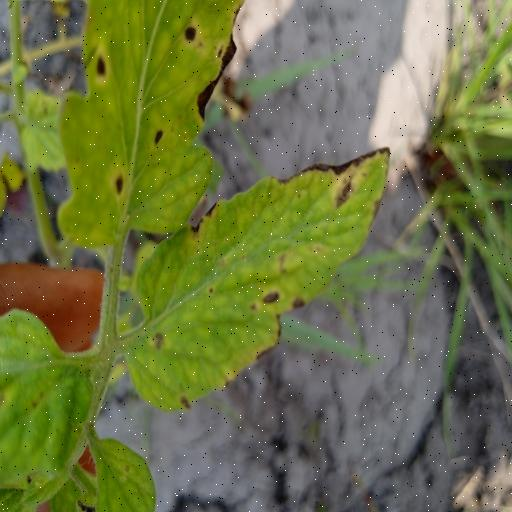Tomato_Brown_Spots: (116, 141, 398, 414), (52, 0, 249, 268)
